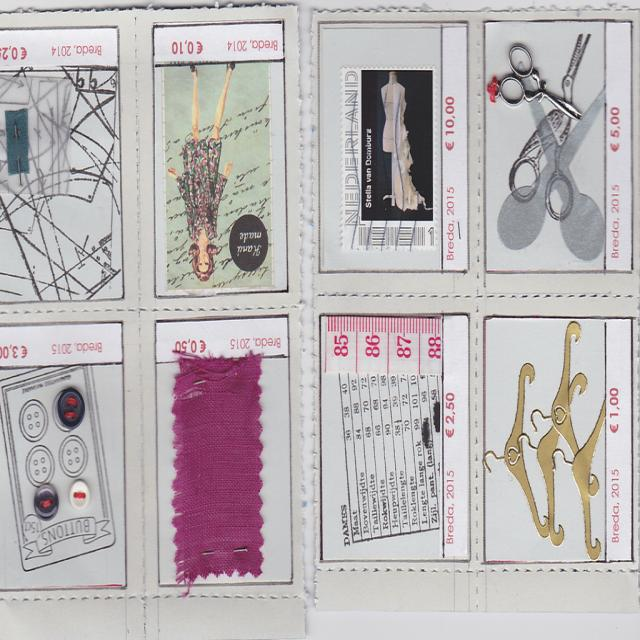scissors: (491, 36, 587, 127)
